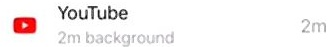name: (49, 2, 139, 25)
time: (55, 29, 84, 47)
